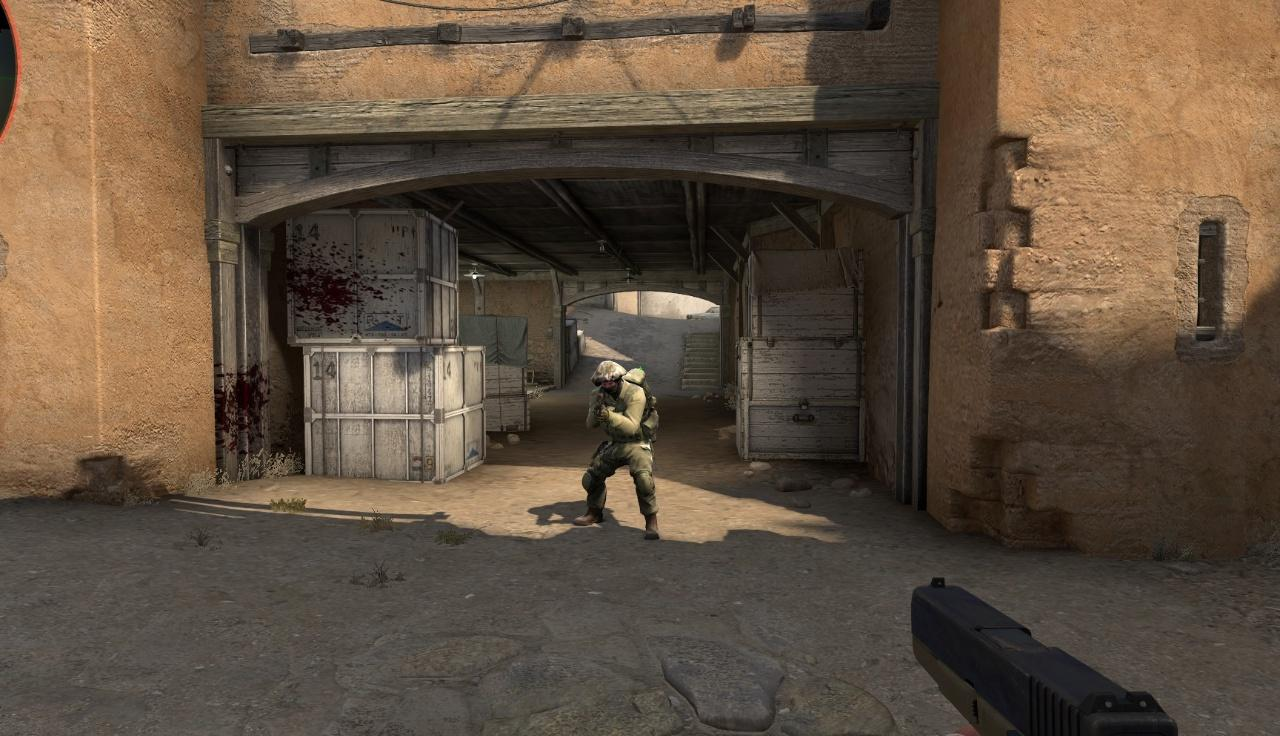ct: (585, 362, 656, 537)
cthead: (596, 362, 623, 392)
pistol: (913, 576, 1174, 736)
